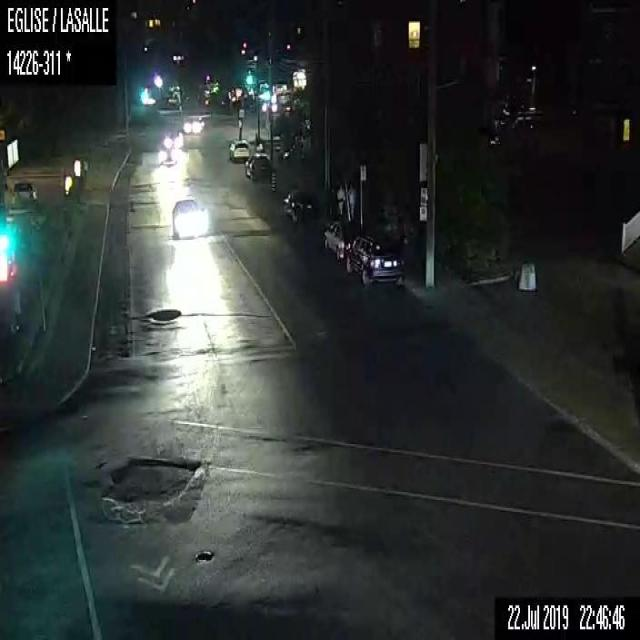construction: (269, 171, 276, 191)
pedestrian: (334, 181, 344, 216), (347, 180, 355, 219)
vehicle: (343, 231, 401, 285), (172, 198, 208, 238), (323, 219, 357, 259), (274, 188, 314, 221), (243, 152, 269, 180), (12, 179, 38, 203), (156, 146, 180, 168), (228, 138, 250, 160), (162, 128, 184, 148), (183, 116, 203, 134)
